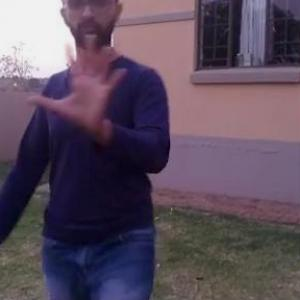follow_hand: (25, 30, 133, 131)
